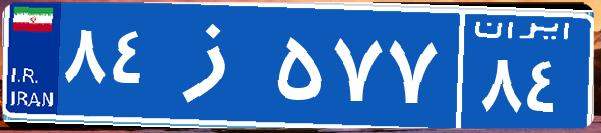4: (110, 28, 158, 105), (525, 38, 570, 115)
5: (273, 28, 330, 110)
7: (385, 28, 445, 110), (330, 28, 385, 110)
8: (57, 26, 110, 107), (475, 38, 525, 113)
ز: (158, 15, 273, 115)
